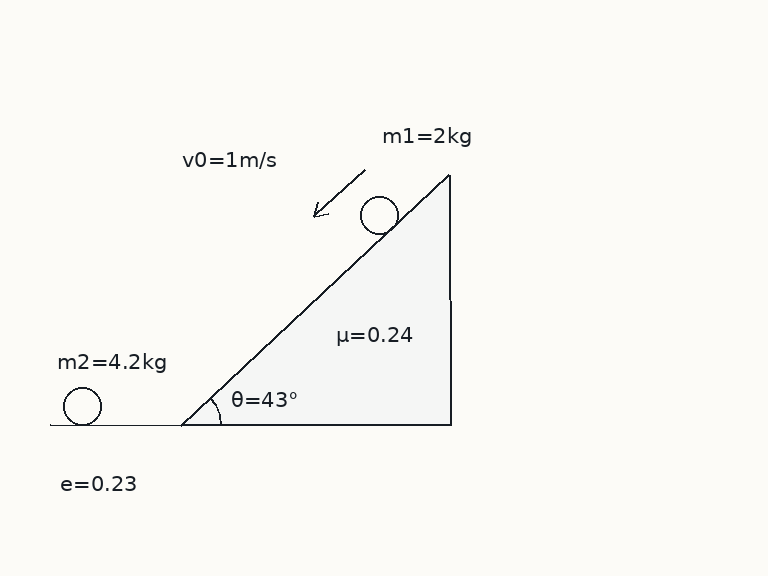ball: (358, 194, 400, 236), (61, 385, 103, 427)
ramp: (179, 173, 451, 427)
